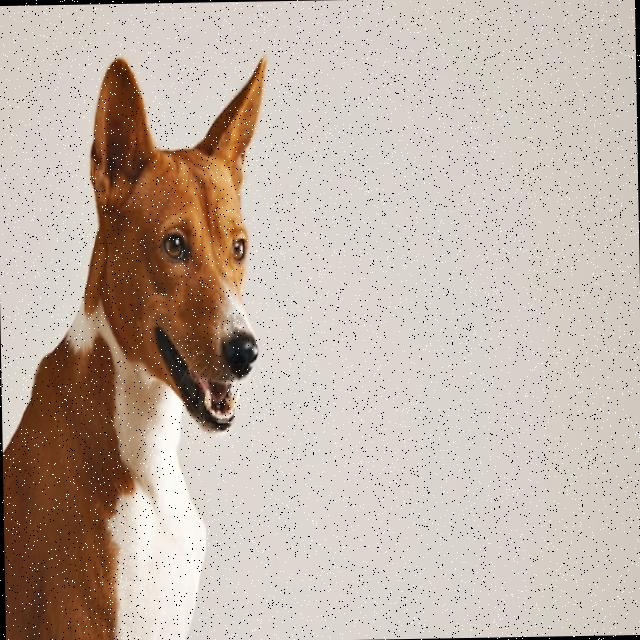Dog: (0, 54, 276, 640)
